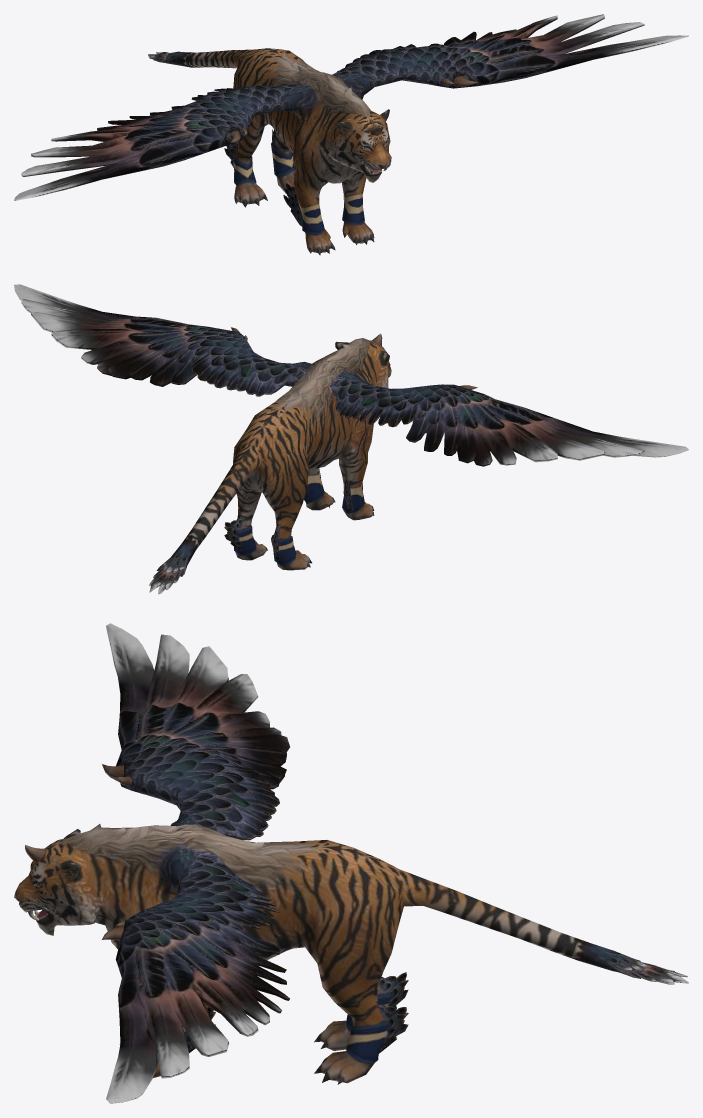
The model's file is 57-qiongqi.glb.
3 renders of one model, top to bottom at view 1: azimuth 30°, elevation 25°; view 2: azimuth 150°, elevation 25°; view 3: azimuth 270°, elevation 25°, orthographic. The views are drawn at different scales.
Size of the model in its own units: 9.7 by 2.23 by 5.77.
Materials: 1 (1 with a texture image).
